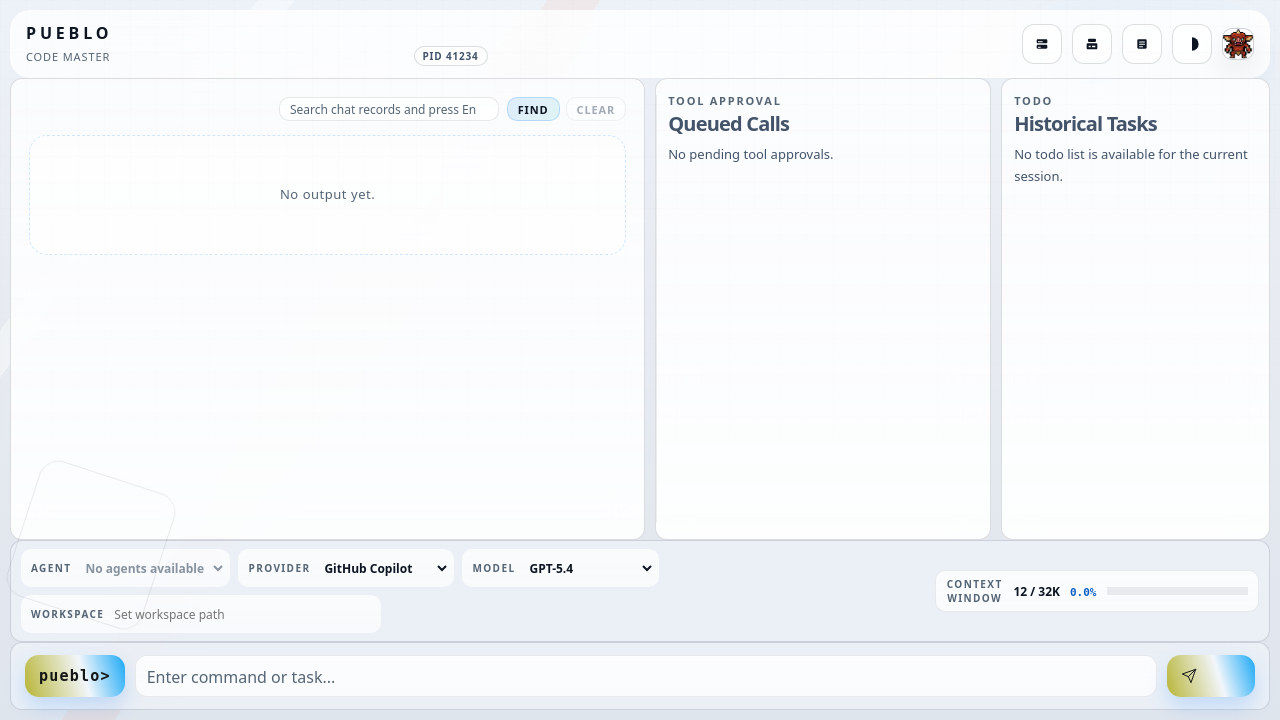
Test: Desktop Renderer › clears the input immediately, shows a thinking placeholder, and streams the final answer
In the text box with placeholder "Enter command or task...": coordinates (646, 676) [135,655,1157,697], type "Inspect the current failure"
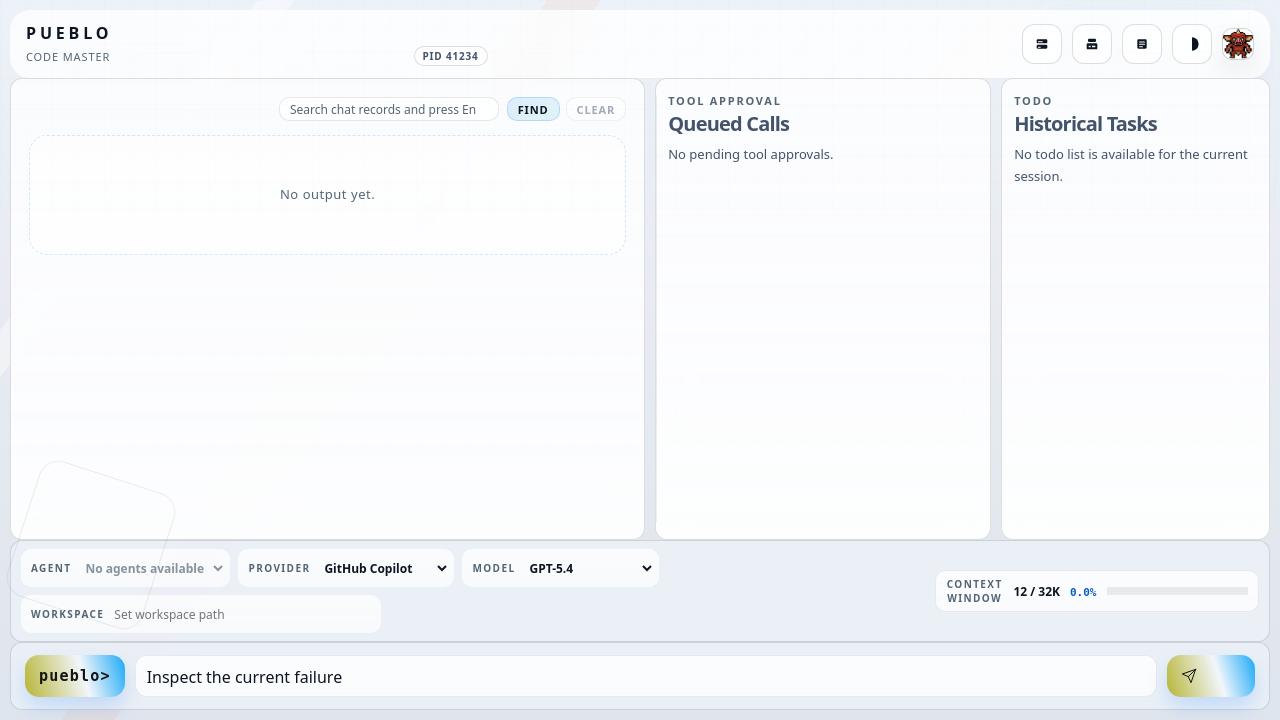
Submit the form named "input-region", box [10,642,1270,710]
Wait 220 ms
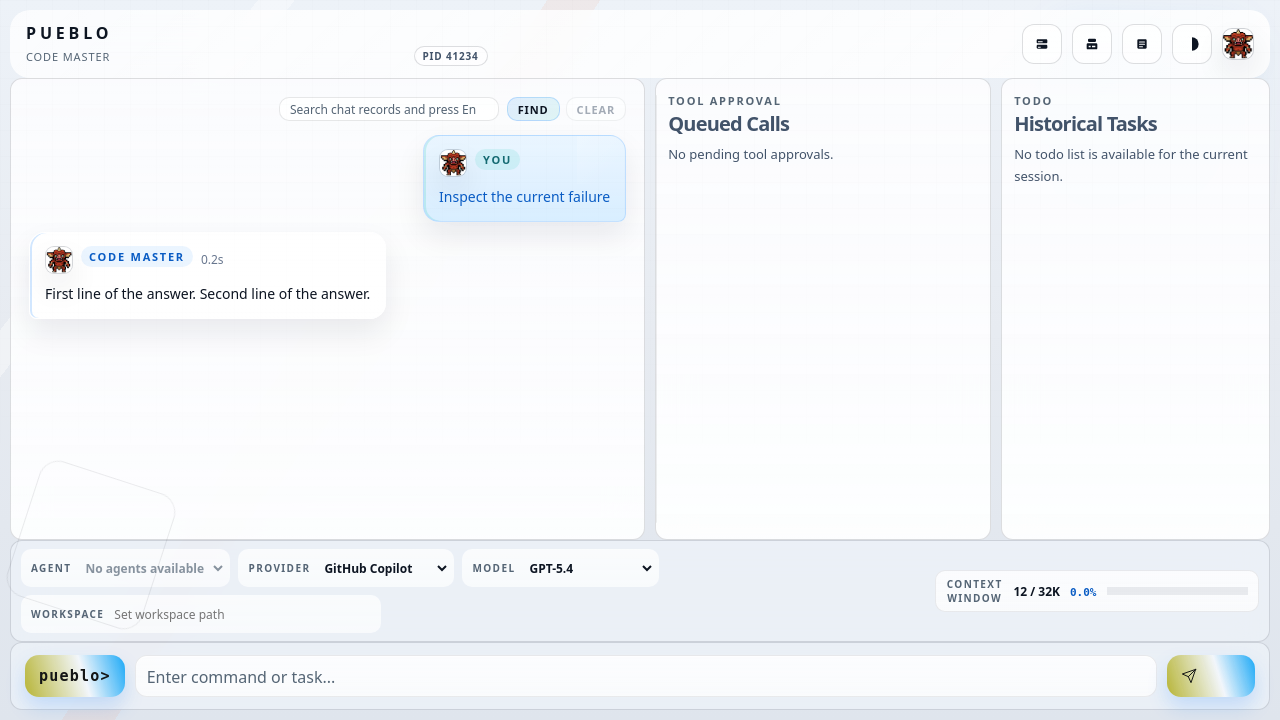
Expected: the text box with placeholder "Enter command or task..." is empty, [135,655,1157,697]
Expected: the text "First line of the answer. Second line of the answer." is shown, [45,282,370,305]
